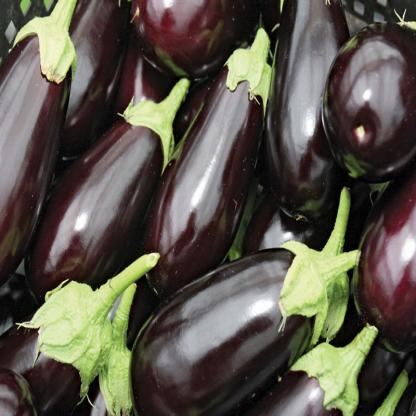--: (124, 239, 371, 416), (25, 71, 192, 308), (140, 25, 280, 304)
